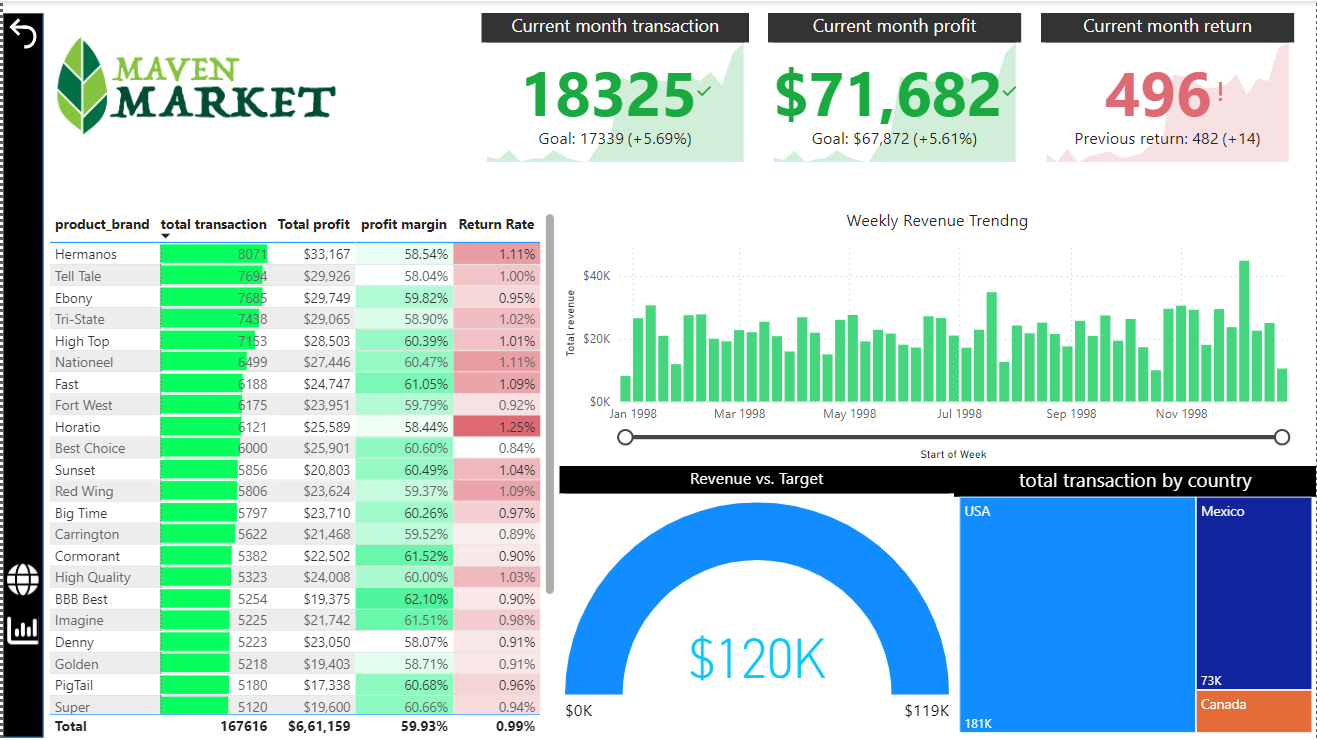

This screenshot's page, from the dashboard's own definition file:
{"tool":"powerbi","page":{"name":"Top Line Performance","canvas":[1280,720],"ordinal":0},"visuals":[{"type":"image","box":[39.5,11.7,295.2,140.3],"z":0},{"type":"tableEx","fields":{"Values":["Products.product_brand","Measures Table(DAX).total transaction","Measures Table(DAX).Total profit","Measures Table(DAX).profit maegin","Measures Table(DAX).Return Rate"]},"box":[39.5,201.7,502.7,518.8],"z":1000},{"type":"kpi","title":"Current month transaction","fields":{"Indicator":["Measures Table(DAX).total transaction"],"TrendLine":["Calendar.Start of Month"],"Goal":["Measures Table(DAX).Last month Transaction"]},"box":[466.4,12.4,260.6,150.4],"z":2000},{"type":"kpi","title":"Current month return","fields":{"TrendLine":["Calendar.Start of Month"],"Indicator":["Measures Table(DAX).total returns"],"Goal":["Measures Table(DAX).Last month return"]},"box":[1010.7,12.4,246.6,150.4],"z":3000},{"type":"kpi","title":"Current month profit","fields":{"TrendLine":["Calendar.Start of Month"],"Indicator":["Measures Table(DAX).Total profit"],"Goal":["Measures Table(DAX).Last month profit"]},"box":[745.5,12.4,246.6,150.4],"z":4000},{"type":"columnChart","title":"Weekly Revenue Trendng","fields":{"Category":["Calendar.Start of Week"],"Y":["Measures Table(DAX).Total revenue"]},"box":[542.8,201.6,736.7,251.2],"z":5000},{"type":"gauge","title":"Revenue vs. Target","fields":{"Y":["Measures Table(DAX).Total revenue"],"MaxValue":["Measures Table(DAX).Revenue target"]},"box":[542.2,453.1,384.4,267.4],"z":6000},{"type":"treemap","fields":{"Group":["Stores.country","Stores.state","Stores.city"],"Values":["Measures Table(DAX).total transaction"]},"box":[926.6,453.1,353.7,264.5],"z":7000},{"type":"shape","box":[0,11.7,39.5,705.9],"z":8000},{"type":"actionButton","box":[0,11.7,39.5,39.5],"z":9000},{"type":"actionButton","box":[0,586.2,38.8,54.3],"z":10000},{"type":"actionButton","box":[0,544.4,38.8,40.3],"z":11000}]}

Visuals, with their boxes on the page's 1280x720 design canvas (x1, y1, x2, y2). These are canvas units, not pixel positions in the 1317x740 screenshot, which may show the page scaled, cropped or inside an application window:
image: [left=40, top=12, right=335, bottom=152]
tableEx - Products.product_brand x Measures Table(DAX).total transaction: [left=40, top=202, right=542, bottom=720]
"Current month transaction" kpi: [left=466, top=12, right=727, bottom=163]
"Current month return" kpi: [left=1011, top=12, right=1257, bottom=163]
"Current month profit" kpi: [left=746, top=12, right=992, bottom=163]
"Weekly Revenue Trendng" columnChart: [left=543, top=202, right=1280, bottom=453]
"Revenue vs. Target" gauge: [left=542, top=453, right=927, bottom=720]
treemap - Stores.country x Stores.state: [left=927, top=453, right=1280, bottom=718]
shape: [left=0, top=12, right=40, bottom=718]
actionButton: [left=0, top=12, right=40, bottom=51]
actionButton: [left=0, top=586, right=39, bottom=640]
actionButton: [left=0, top=544, right=39, bottom=585]
